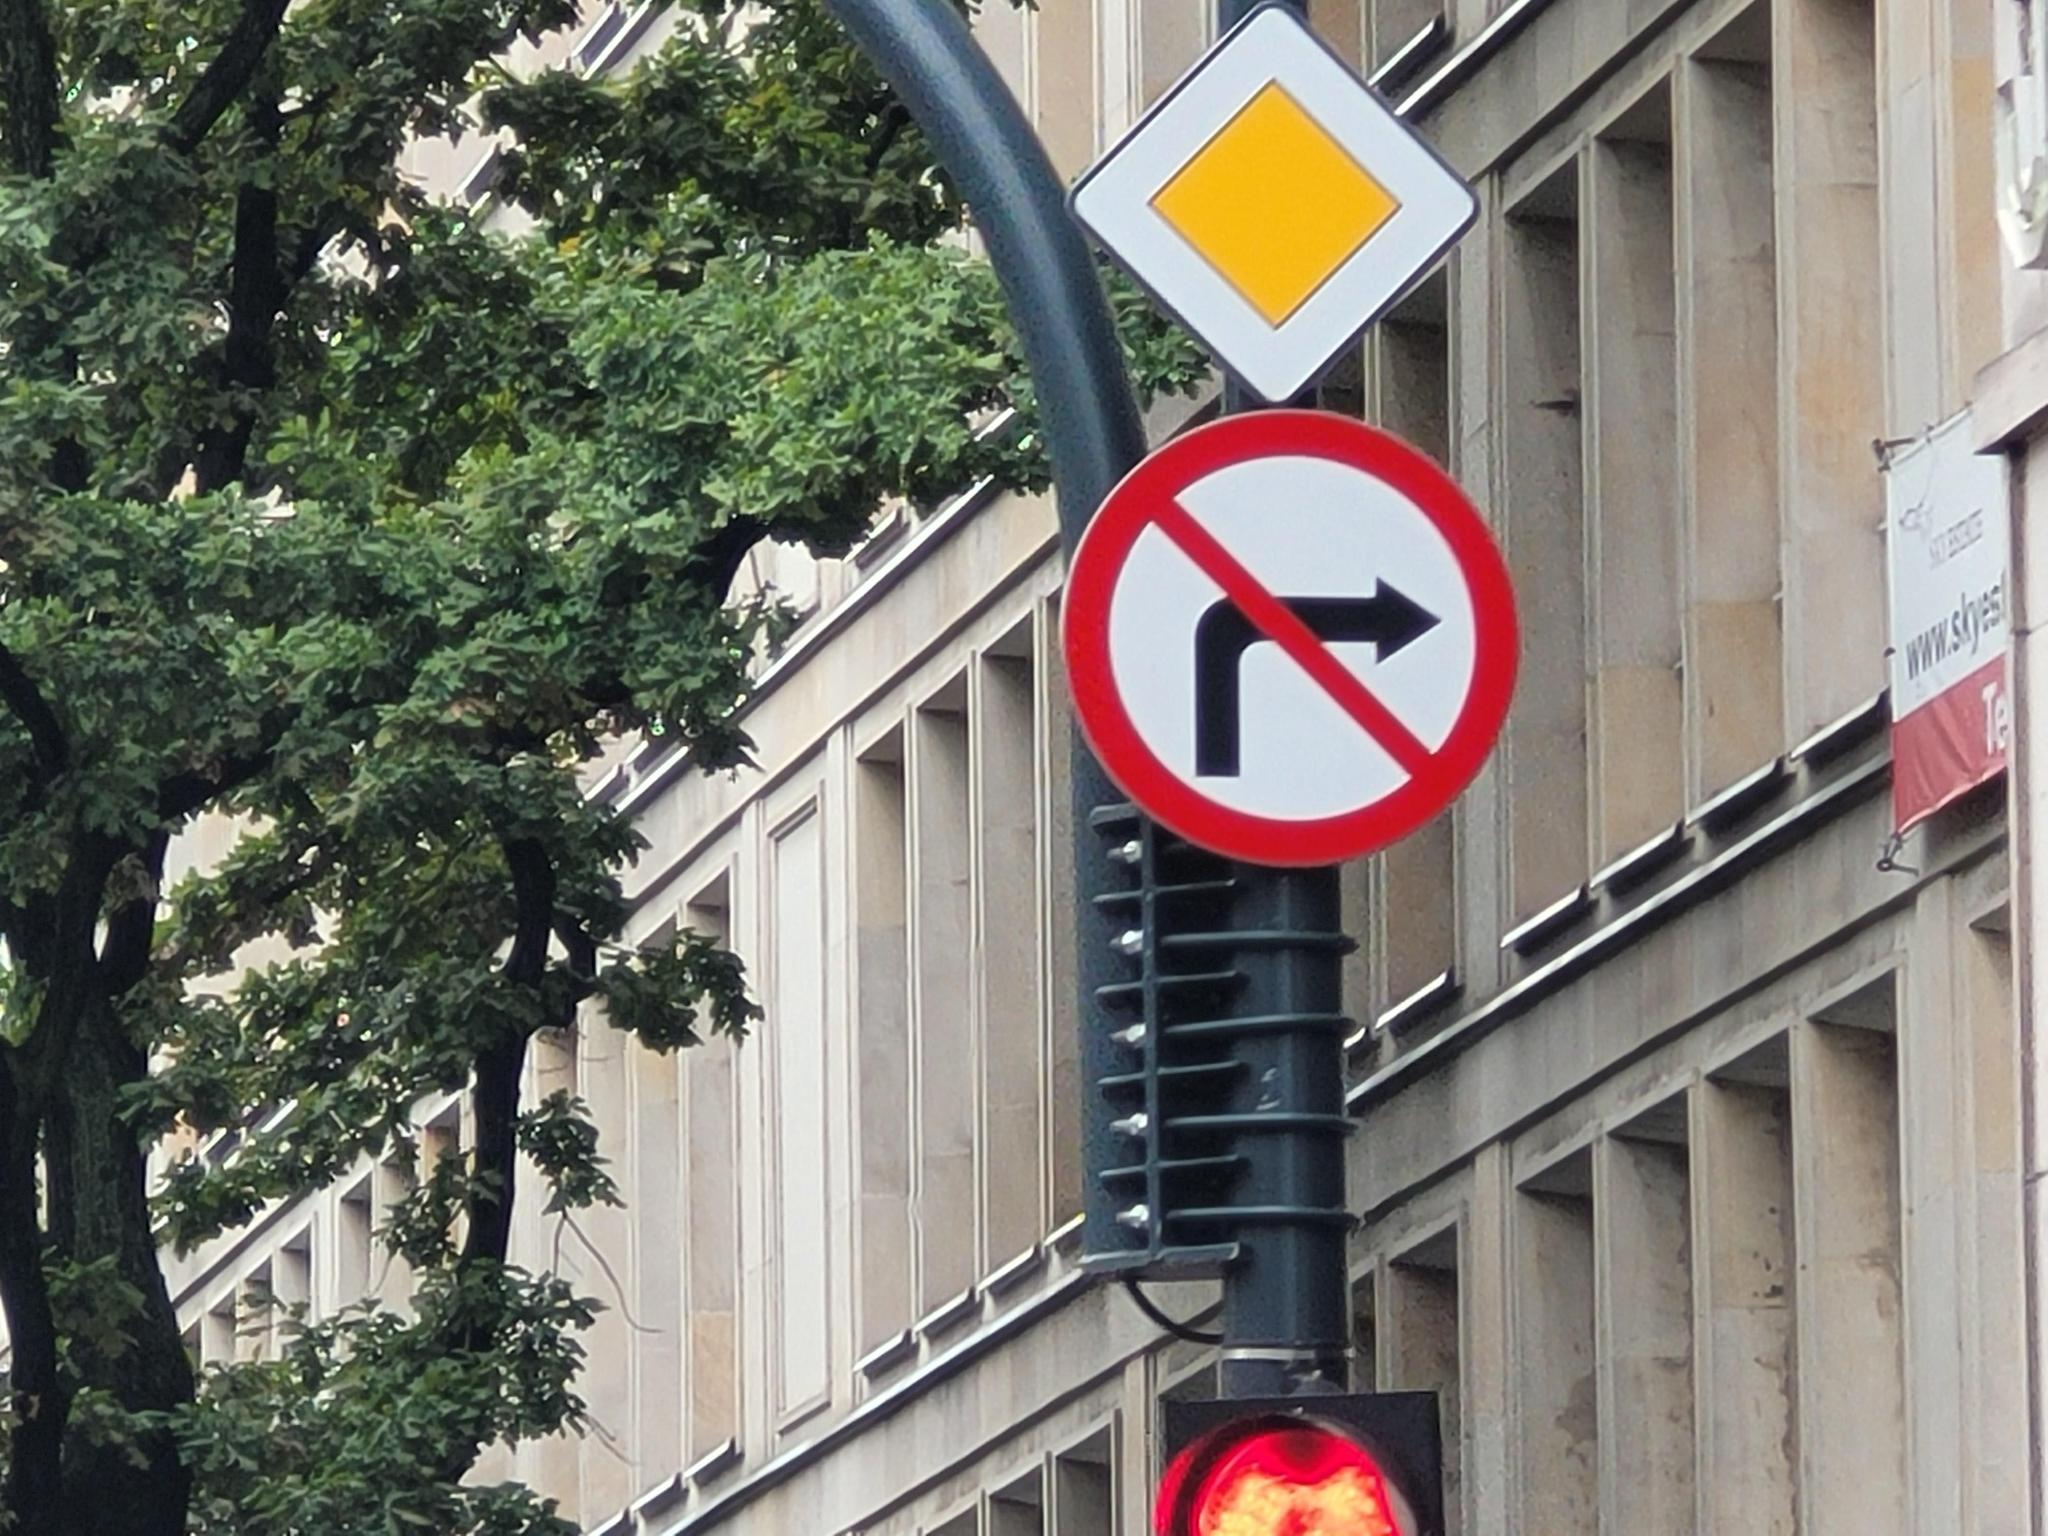information: (1064, 0, 1484, 404)
prohibitory: (1056, 407, 1516, 870)
